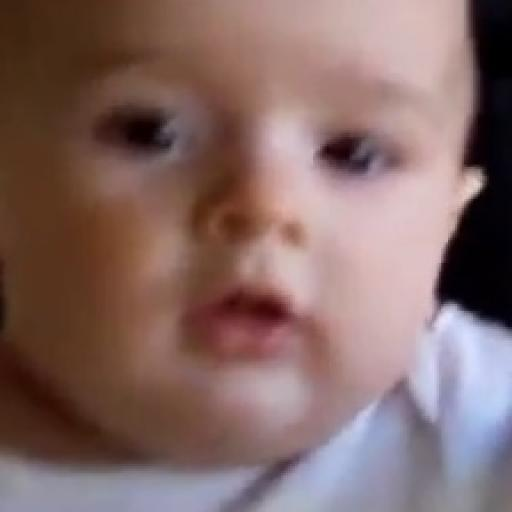Autism: (9, 6, 456, 476)
